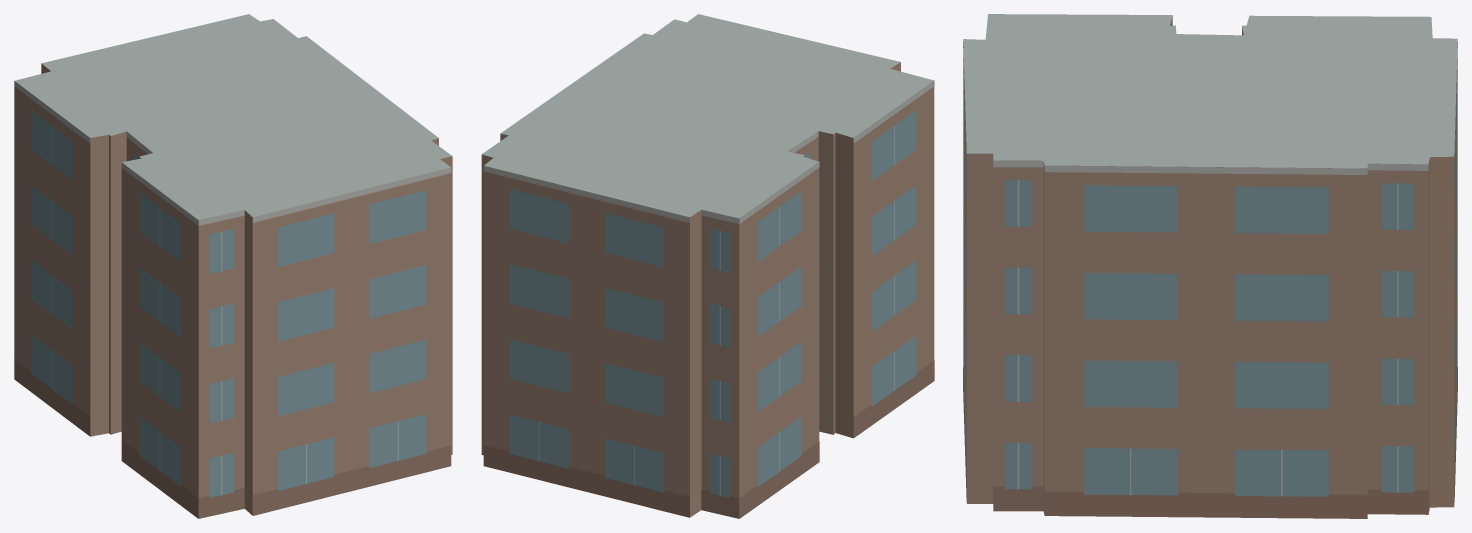
The model's file is survey-upis-32841446.glb.
The picture shows the model from 3 angles, left to right: view 1: azimuth 30°, elevation 25°; view 2: azimuth 150°, elevation 25°; view 3: azimuth 270°, elevation 25°; orthographic projection. The views are drawn at different scales.
Parts seen in each view (by area): view 1: survey-upis-32841446.tmp; view 2: survey-upis-32841446.tmp; view 3: survey-upis-32841446.tmp.
Boxes of the visible parts, bbox=[...] form: survey-upis-32841446.tmp: bbox=[14, 14, 452, 518]; survey-upis-32841446.tmp: bbox=[481, 14, 934, 518]; survey-upis-32841446.tmp: bbox=[963, 14, 1457, 518].
Bounding box in the file's own units: 12.2 × 12.9 × 16.51.
